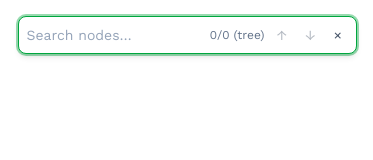
Test: SearchBox (FR6) › Next advances the current match and recenters
The width and height of the screenshot is (373, 160).
Type "patrol" into the field.
click(114, 35); type("patrol")  # box x1=26 y1=25 x2=202 y2=45
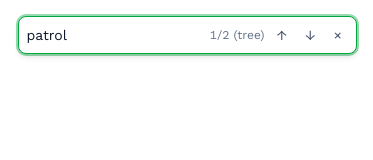
Click the button named "next match".
click(310, 35)  # box x1=299 y1=23 x2=322 y2=47
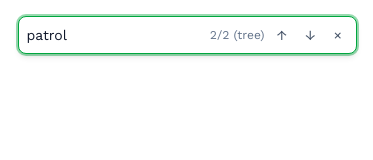
Result: the element titled "Matches in current tree" shows "2/2" at x1=210 y1=28 x2=230 y2=42
